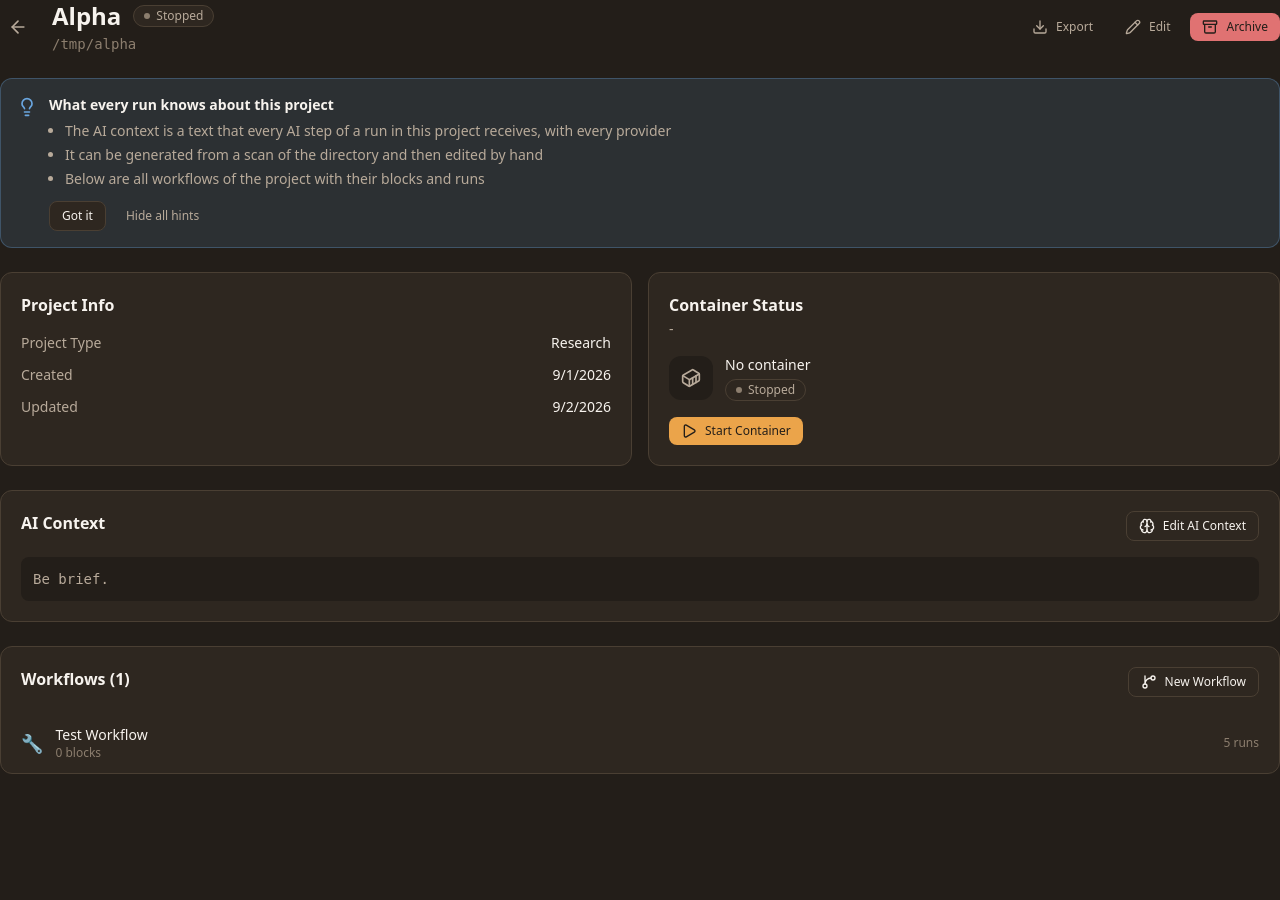
ProjectDetail › edits the project with the shared form fields, prefilled
Step 1. Click the button "Edit" → x=1148, y=27, box [1113,13,1182,41]
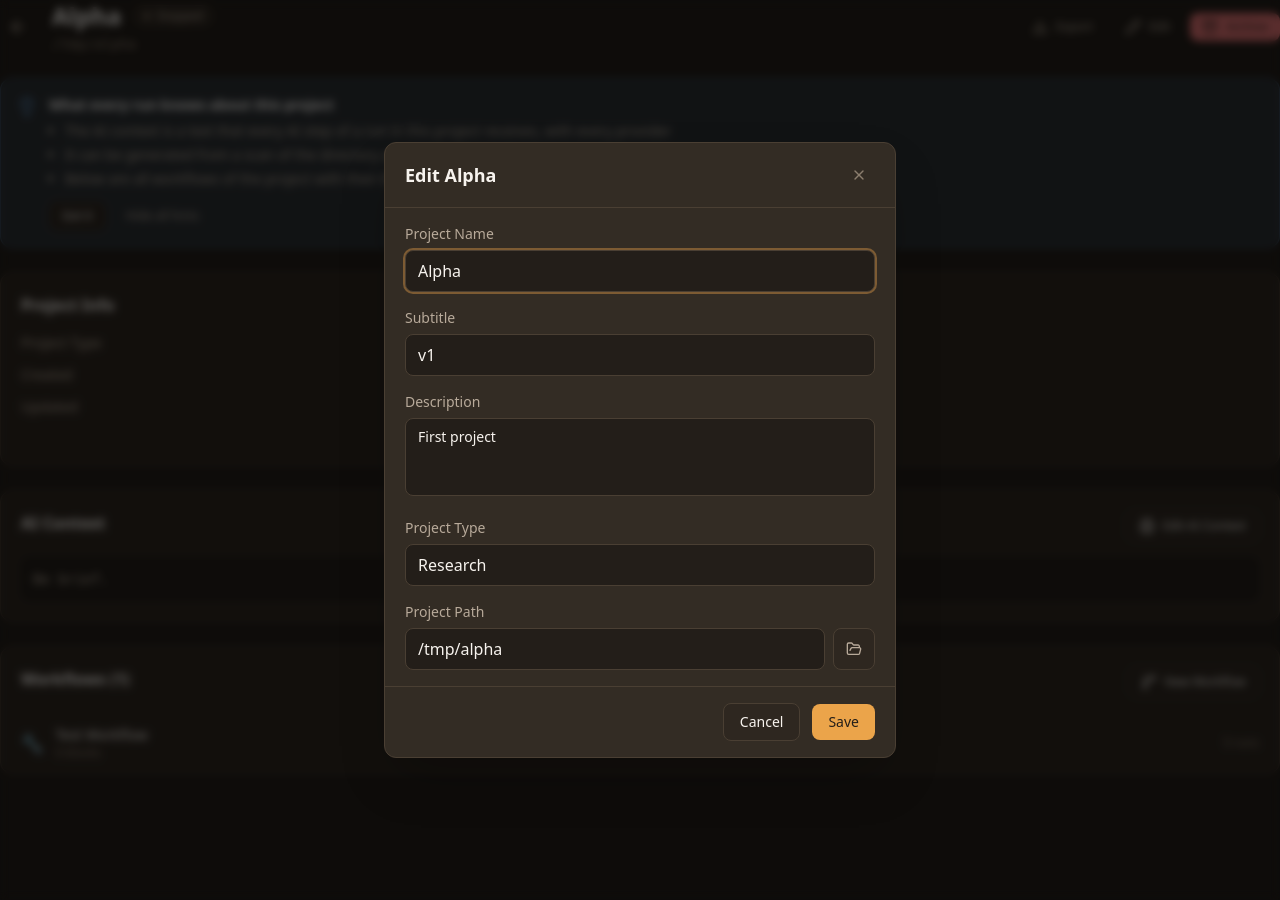
expect the field labelled "Project Name" holds "Alpha": met
expect the field labelled "Subtitle" holds "v1": met, box [405,334,875,376]
expect the text box showing "First project" is shown: met, box [405,418,875,496]
Step 2. Replace the text in the field labelled "Project Name" with "Beta" → x=640, y=271, box [405,250,875,292]
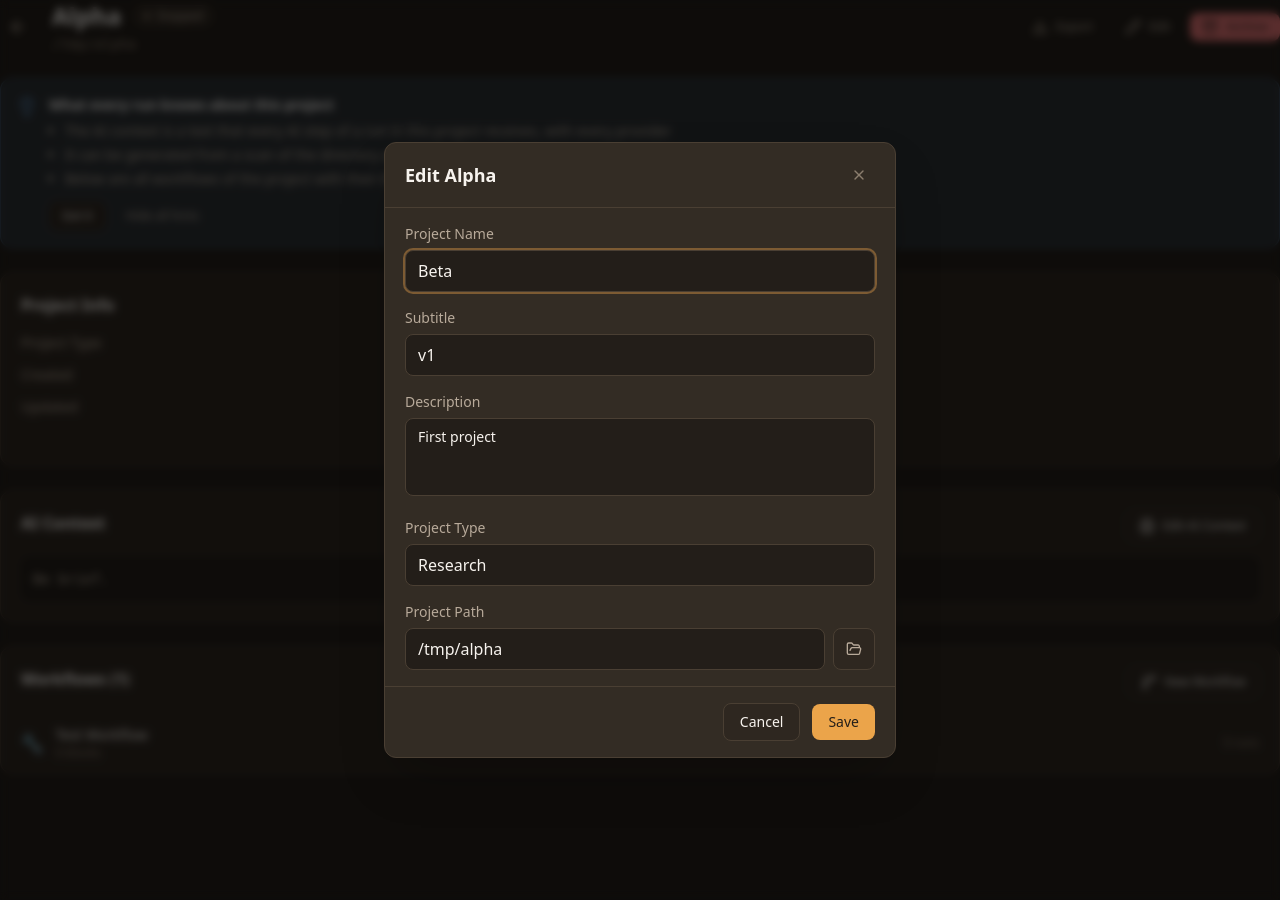
Step 3. Select "Code" in the dropdown → x=640, y=565, box [405,544,875,586]
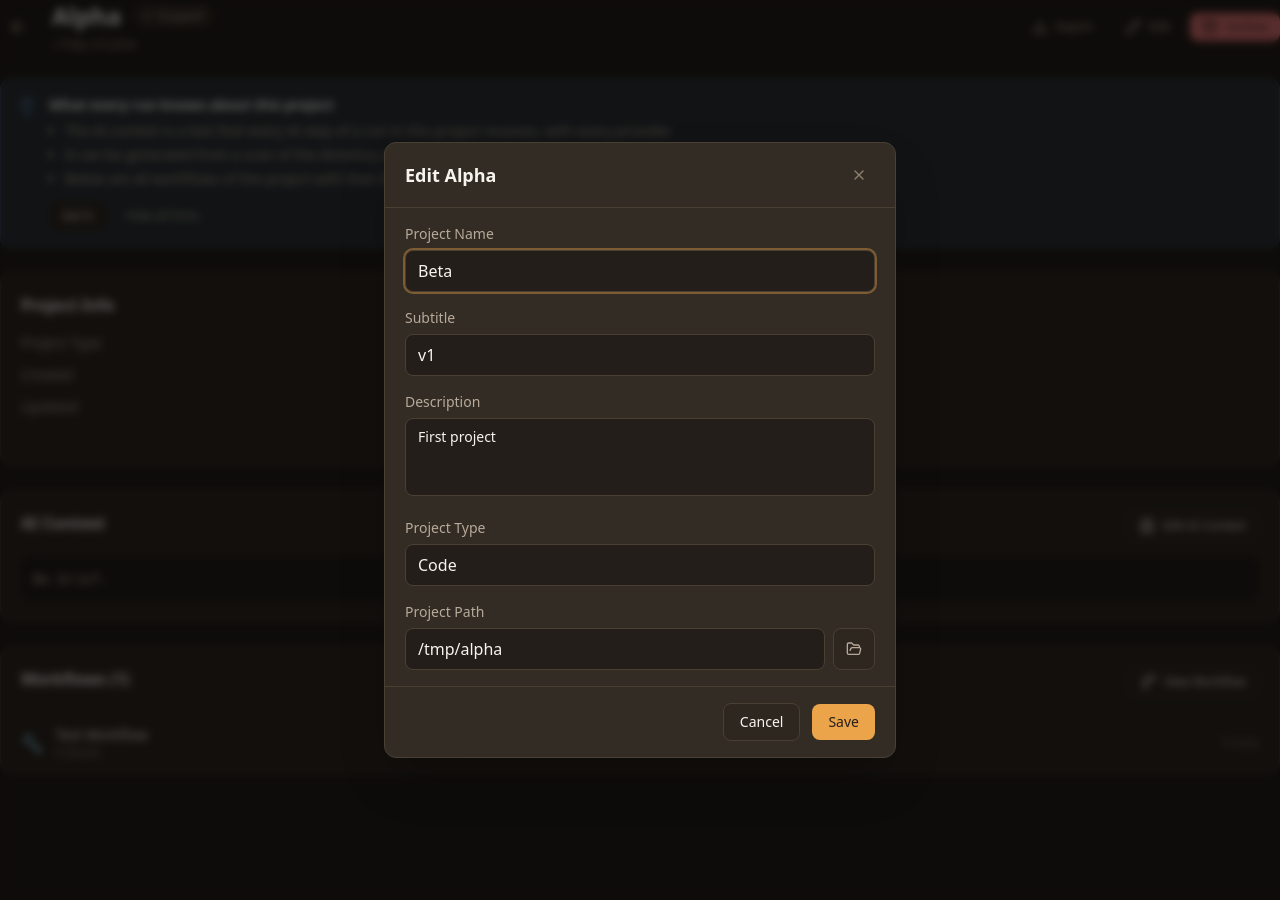
Step 4. Click the button "Save" → x=844, y=722, box [812,704,875,740]
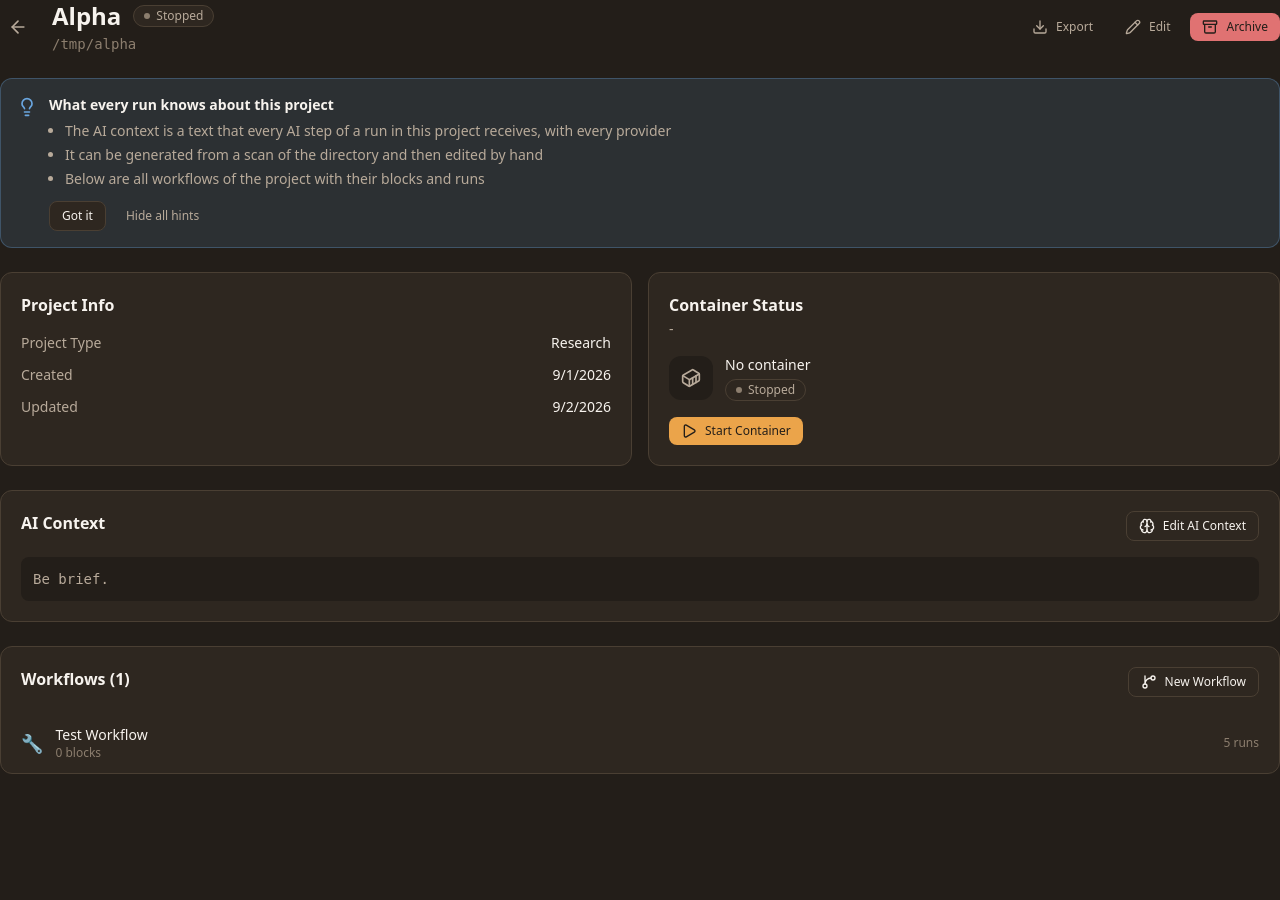
expect the dialog is gone: met
